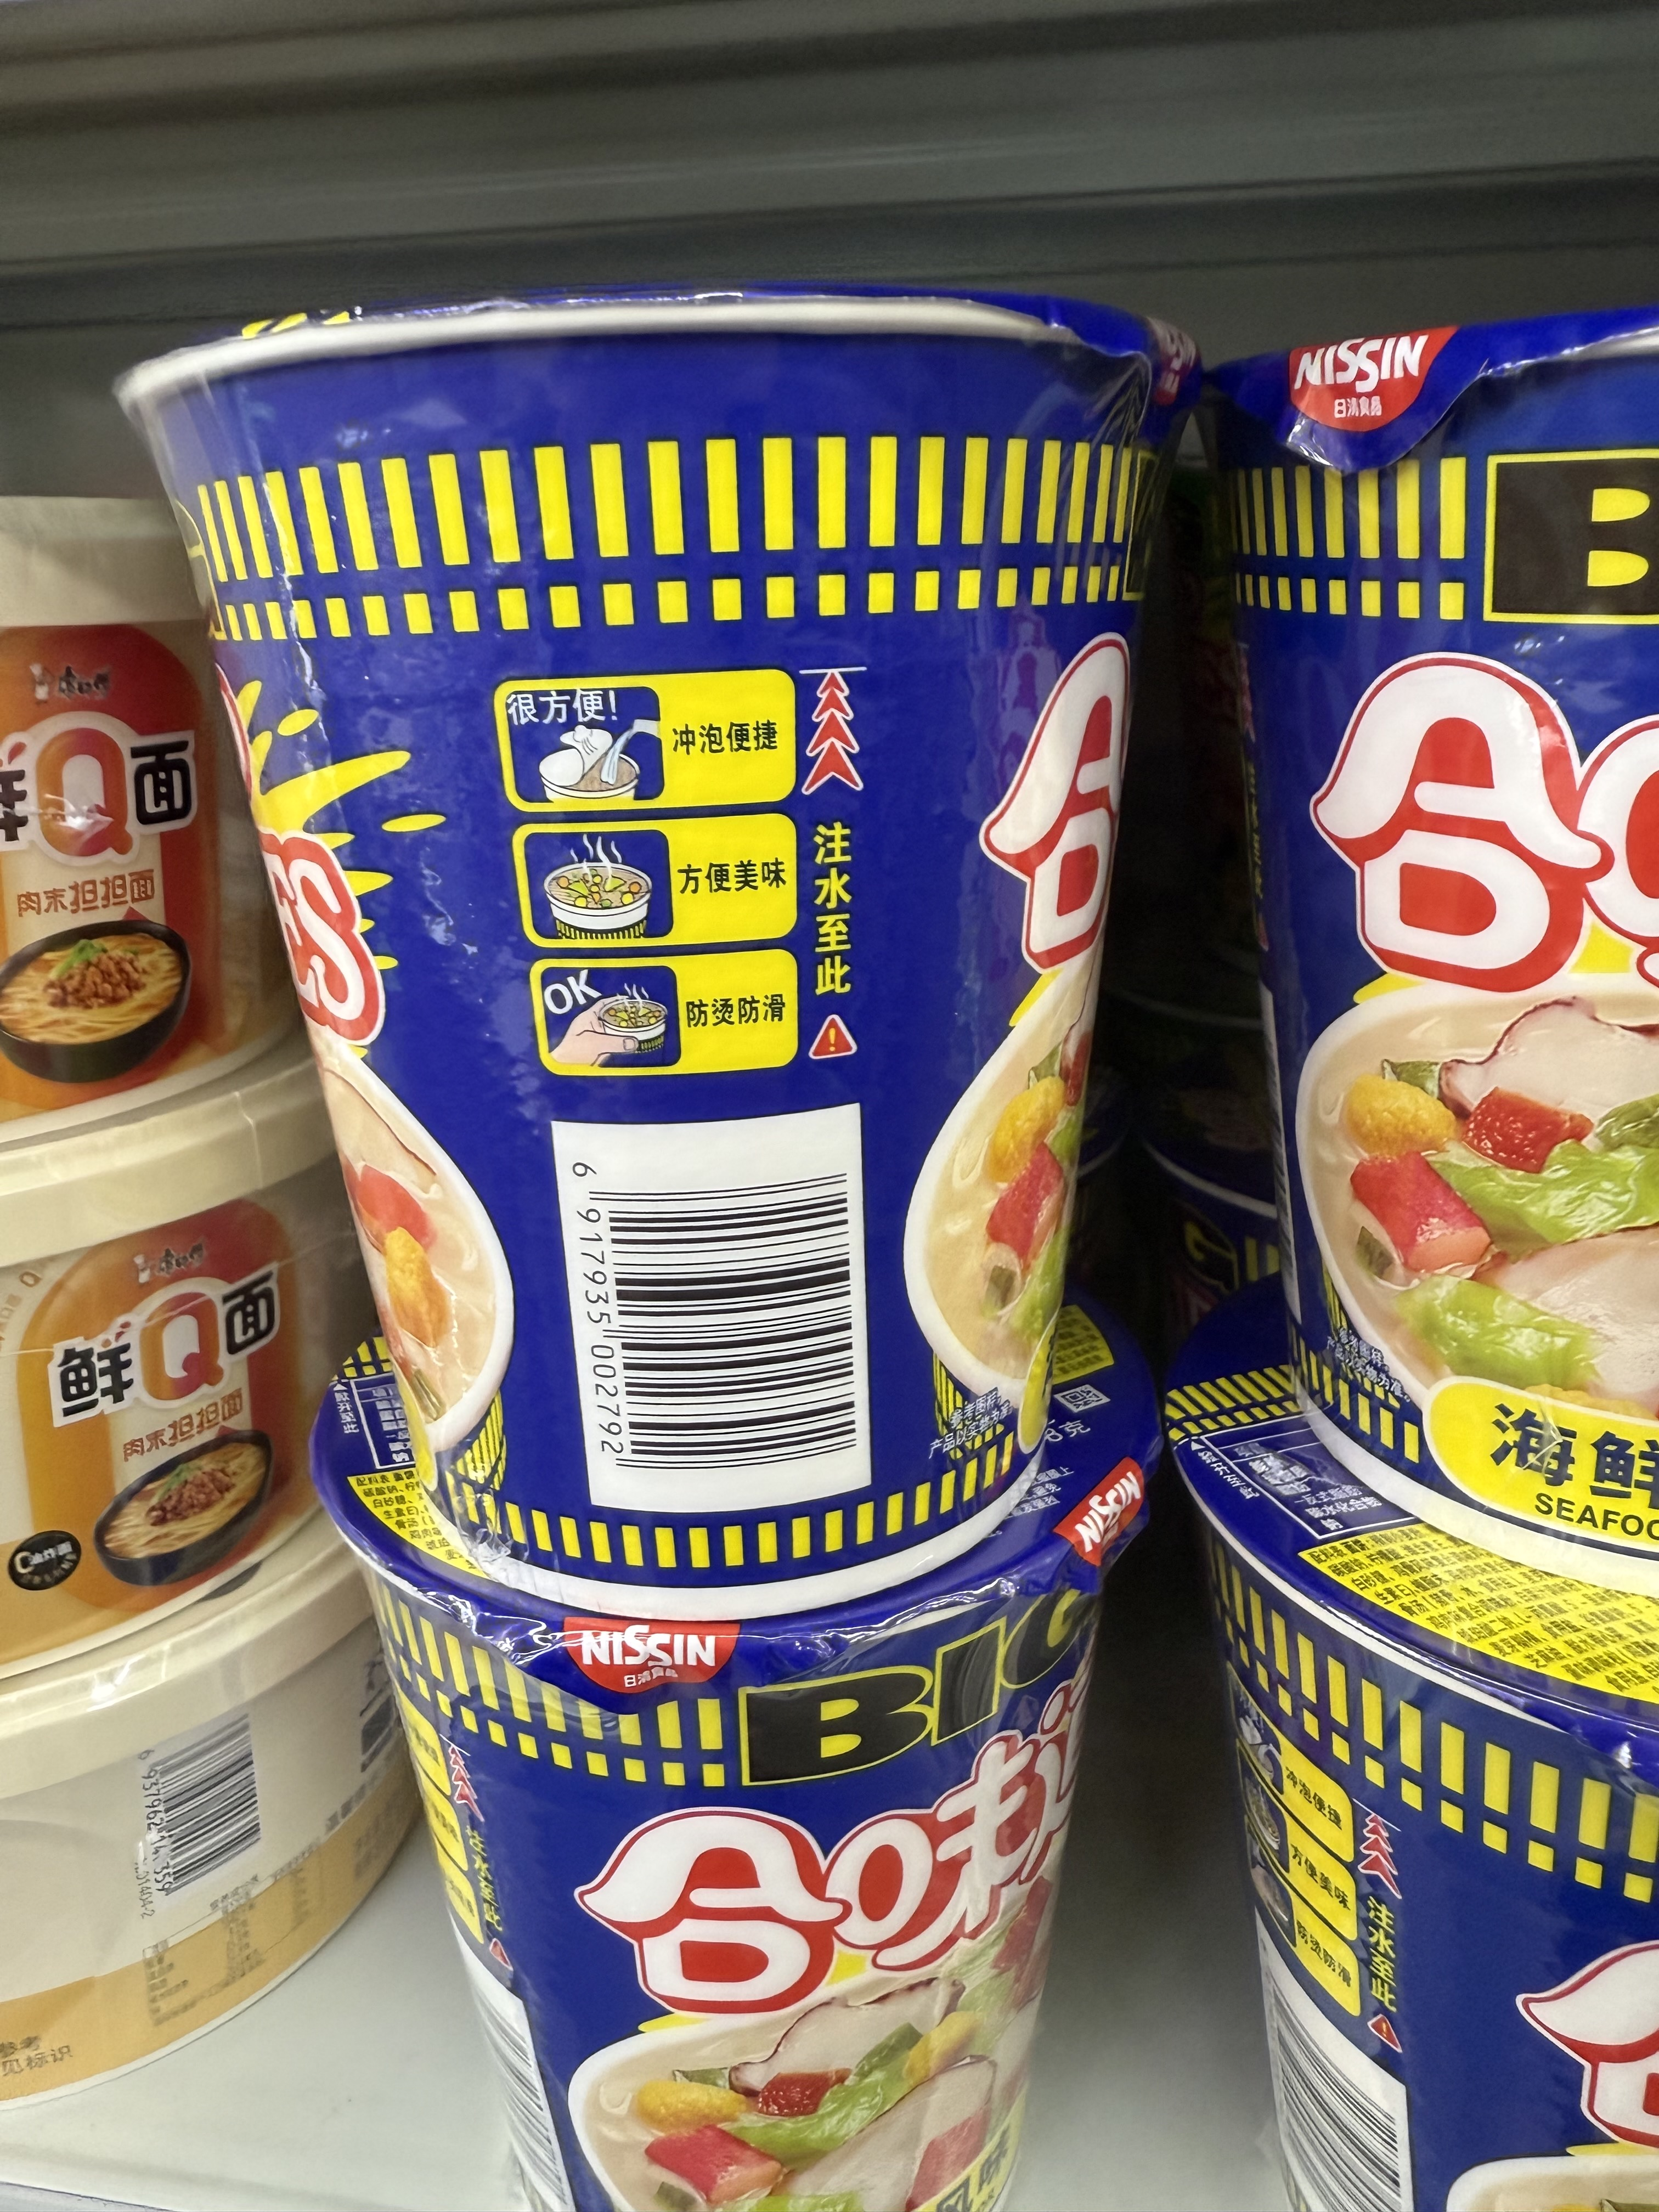bar: (582, 1163, 863, 1477)
